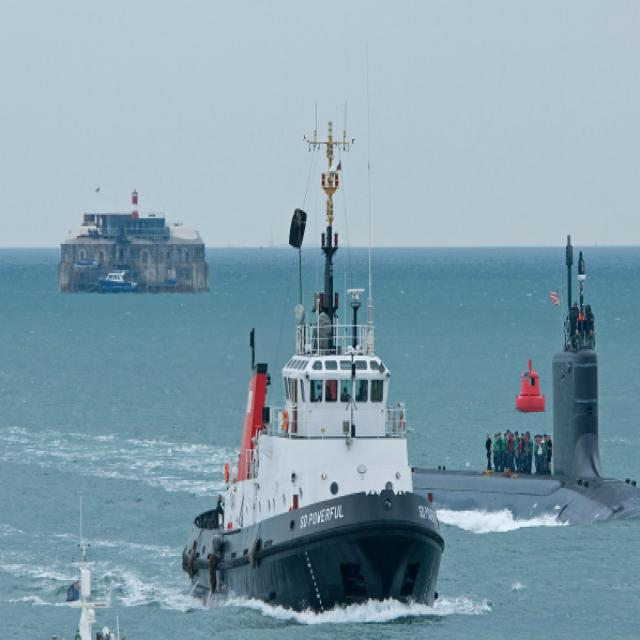submarine: (413, 237, 640, 518)
